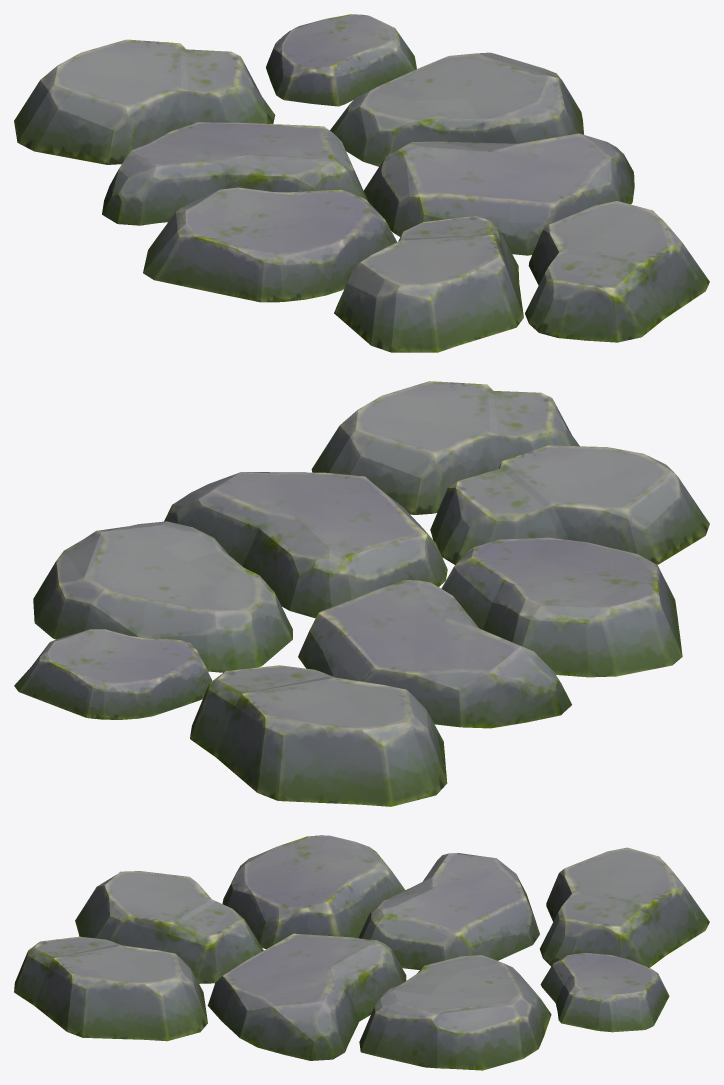
File: RockPath_Round_Small_1.glb
The picture shows the model from 3 angles, top to bottom: view 1: azimuth 30°, elevation 25°; view 2: azimuth 150°, elevation 25°; view 3: azimuth 270°, elevation 25°; orthographic projection. The views are drawn at different scales.
Visible parts, largest first — view 1: RockPath_Round_Small_1; view 2: RockPath_Round_Small_1; view 3: RockPath_Round_Small_1.
Part boxes in pixels (box(x1,y1,x2,y2)): RockPath_Round_Small_1: box(14, 14, 709, 352); RockPath_Round_Small_1: box(14, 381, 709, 806); RockPath_Round_Small_1: box(14, 835, 709, 1070).
Bounding box in the file's own units: 1.06 × 0.1128 × 1.48.
Materials: 1 (1 with a texture image).
